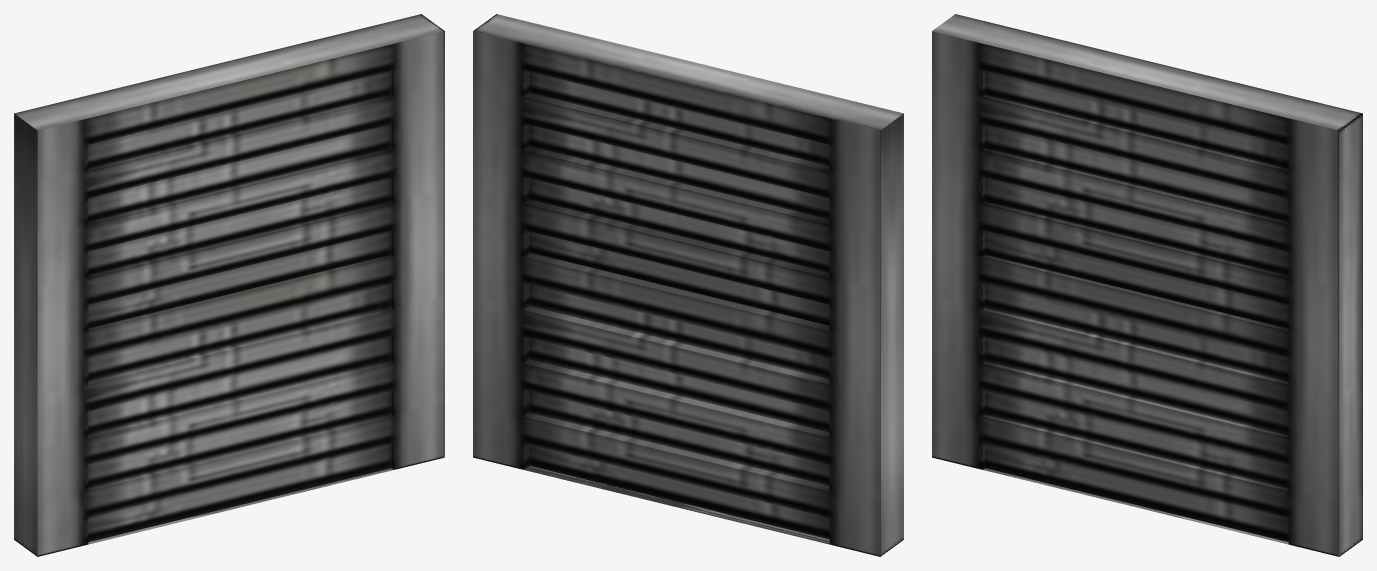
File: metallic_wall01.fbx
3 renders of one model, left to right at view 1: azimuth 30°, elevation 25°; view 2: azimuth 150°, elevation 25°; view 3: azimuth 330°, elevation 25°, orthographic.
Parts seen in each view (by area): view 1: Cube; view 2: Cube; view 3: Cube.
Boxes of the visible parts, left/top/right/bottom form: Cube: left=14, top=14, right=444, bottom=556; Cube: left=473, top=14, right=903, bottom=556; Cube: left=932, top=14, right=1362, bottom=556.
Bounding box in the file's own units: 2000 × 2000 × 200.
Materials: 1 (1 with a texture image).
